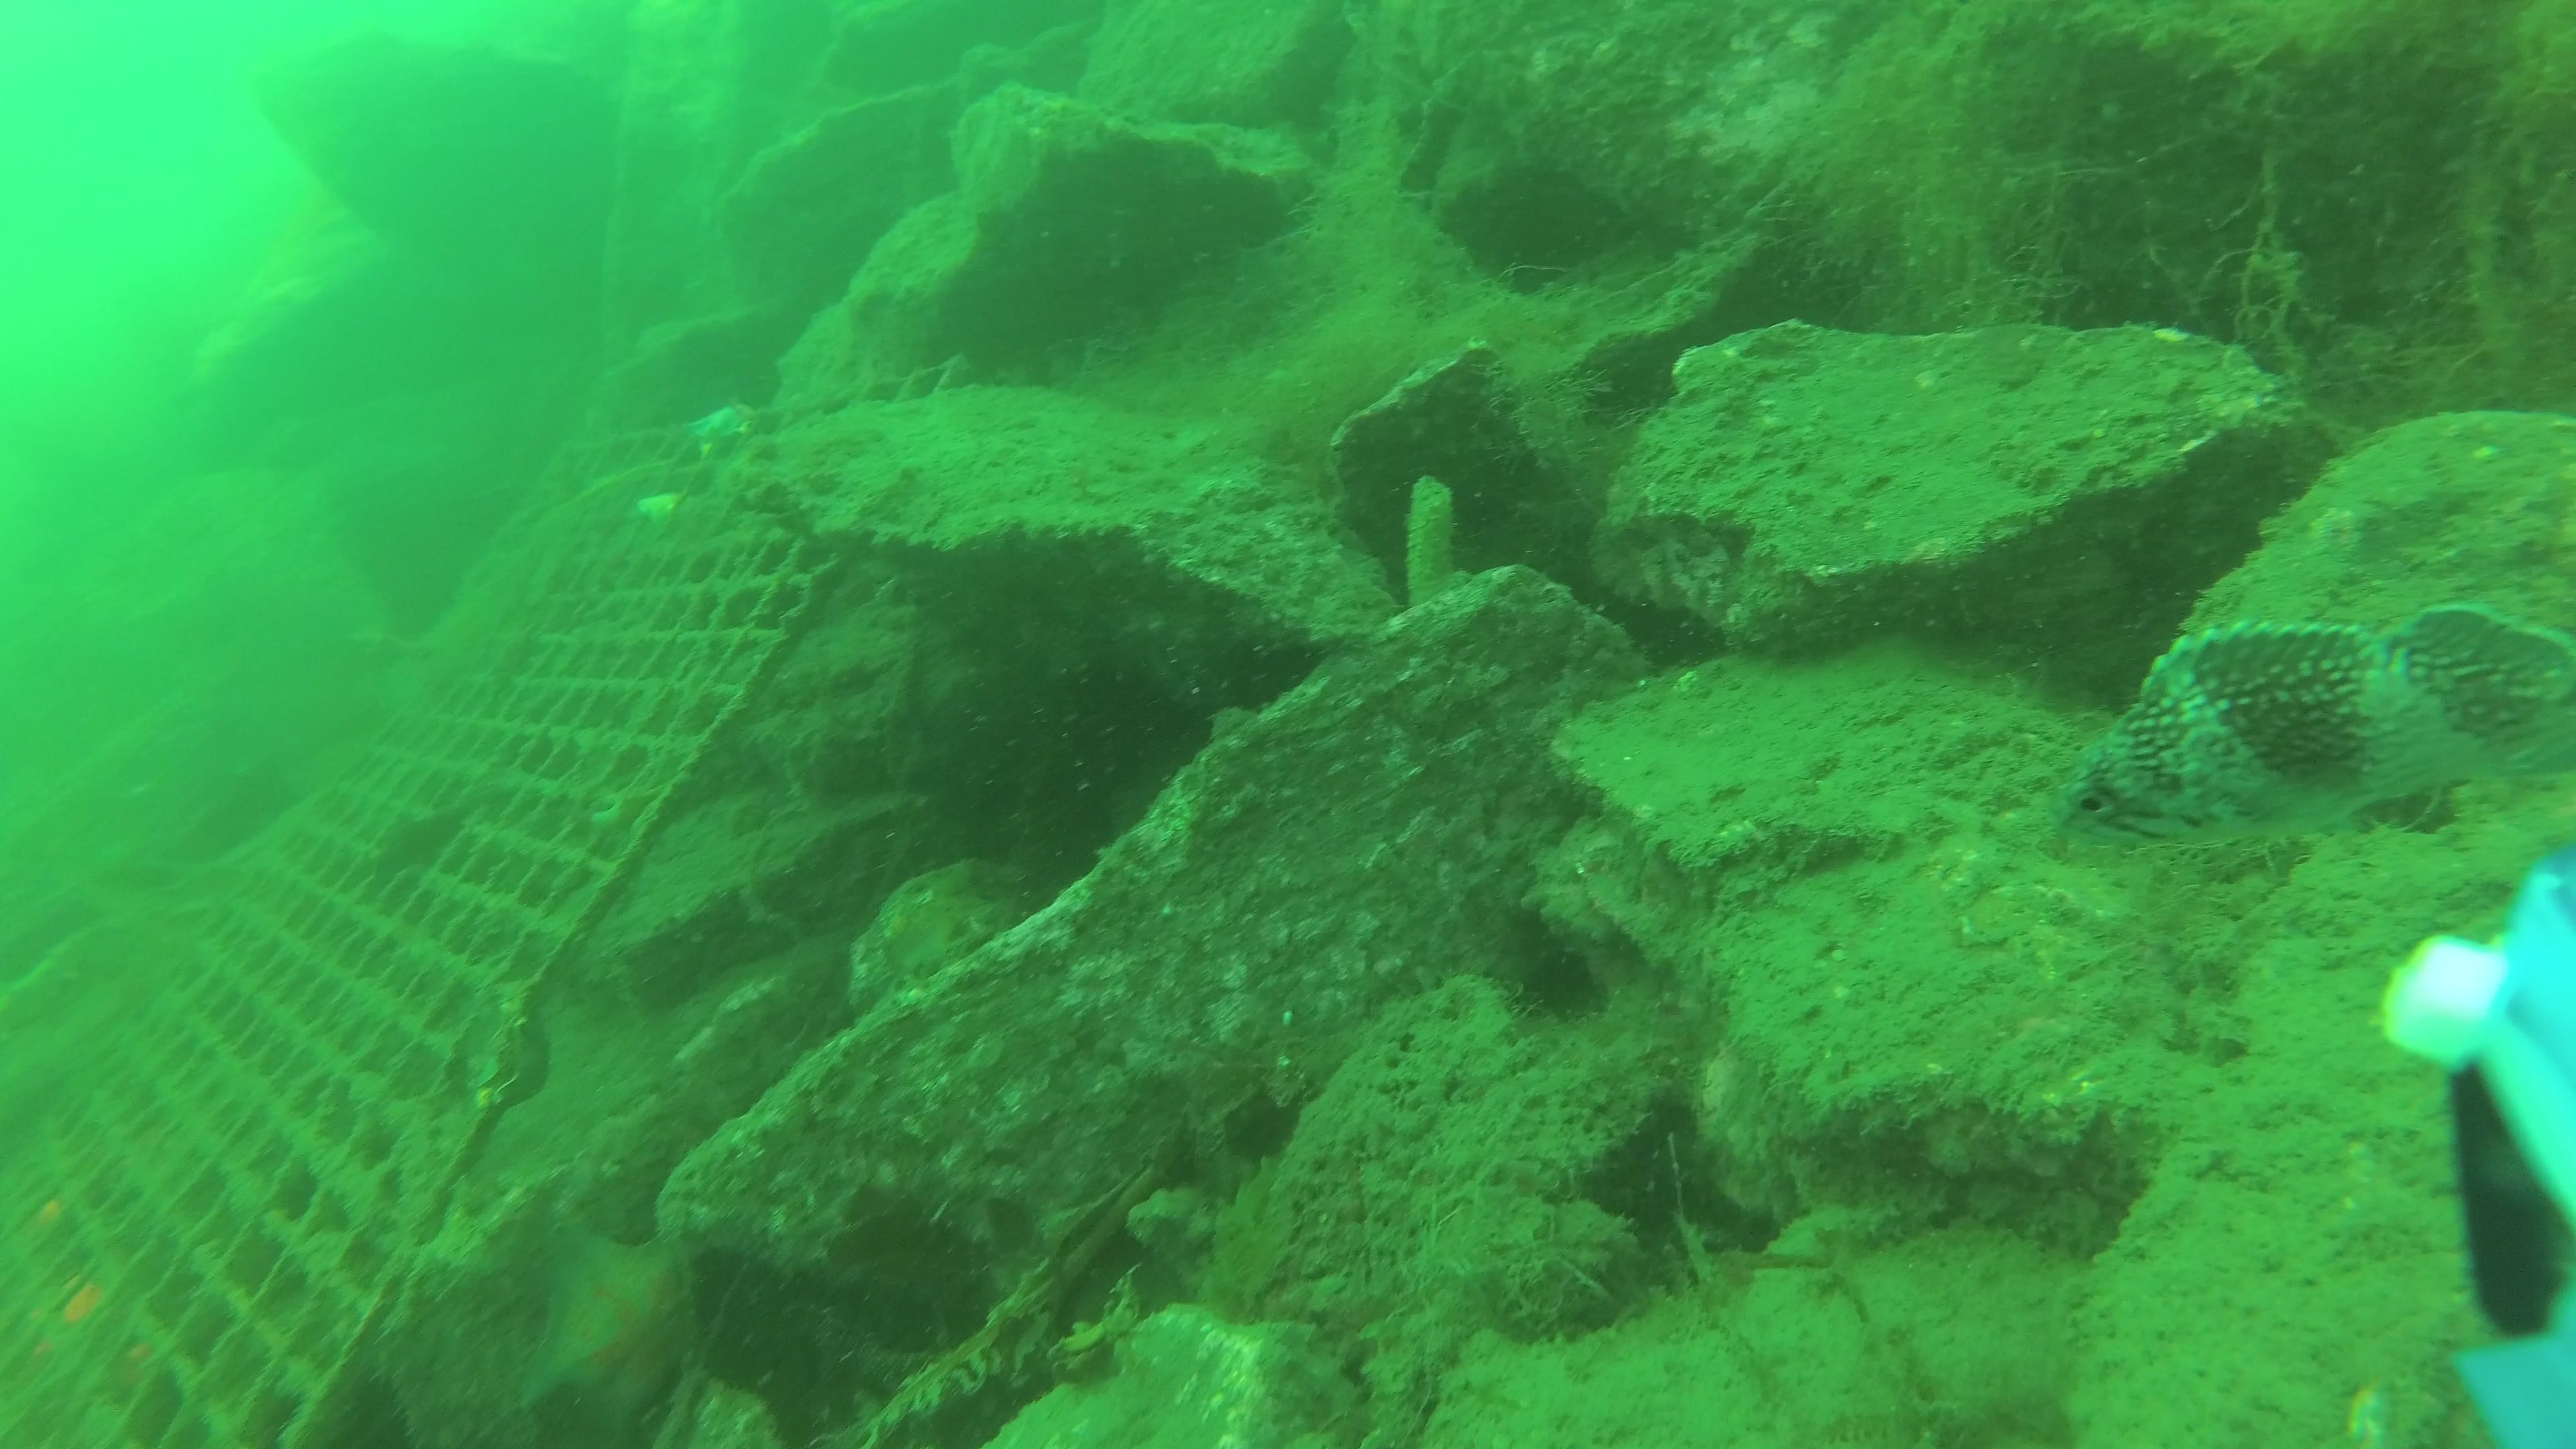echinus: (536, 1212, 699, 1415)
